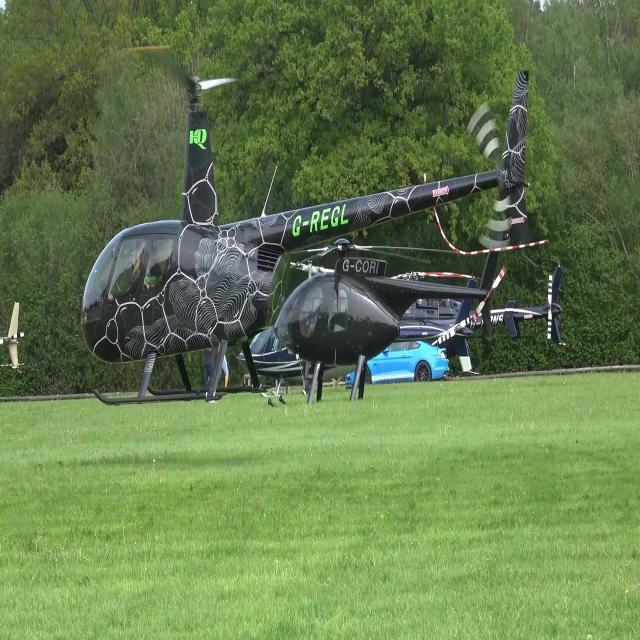CIV_HELO: (80, 72, 533, 413)
